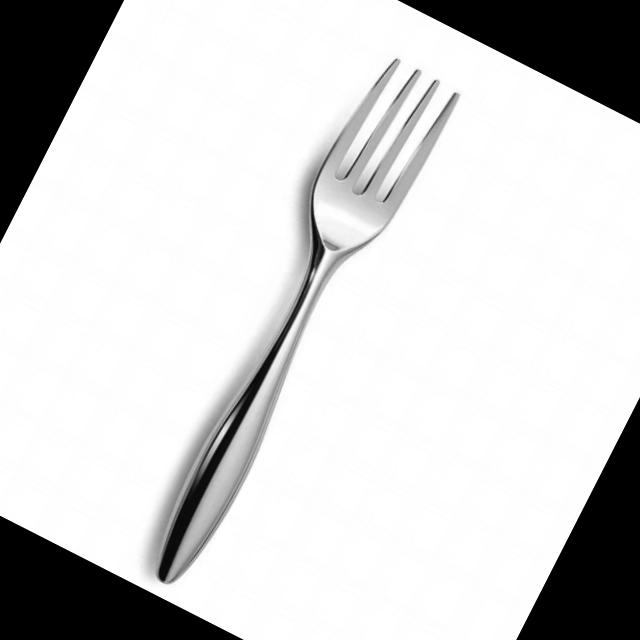fork: (117, 43, 470, 606)
